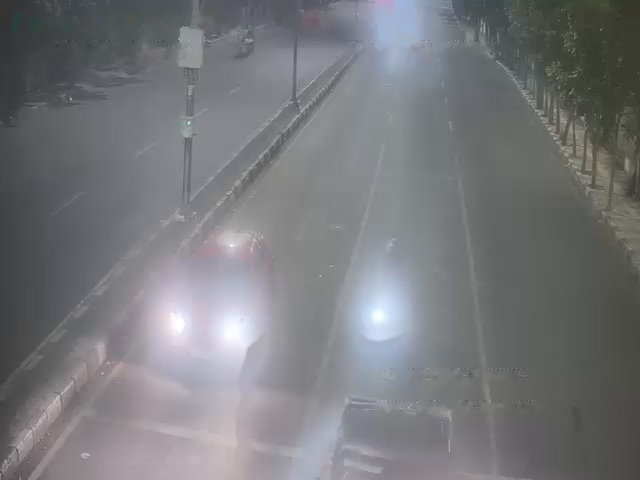Mobil: (171, 227, 271, 355)
Motor: (369, 288, 393, 334)
